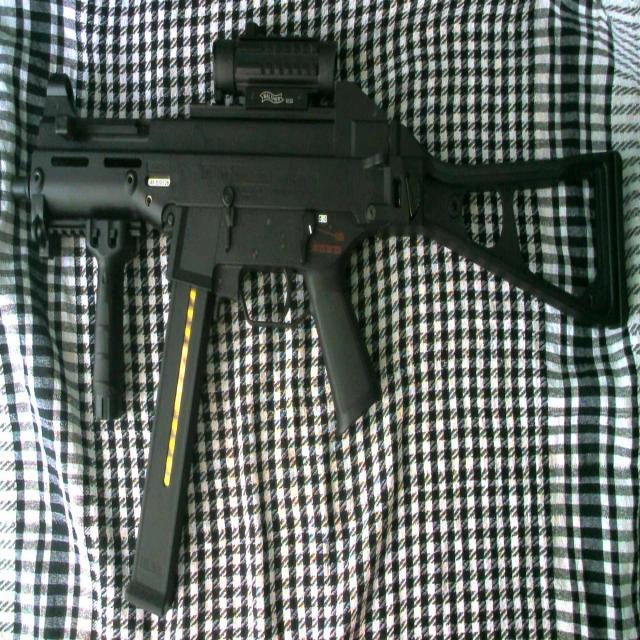firearm: (13, 26, 623, 604)
